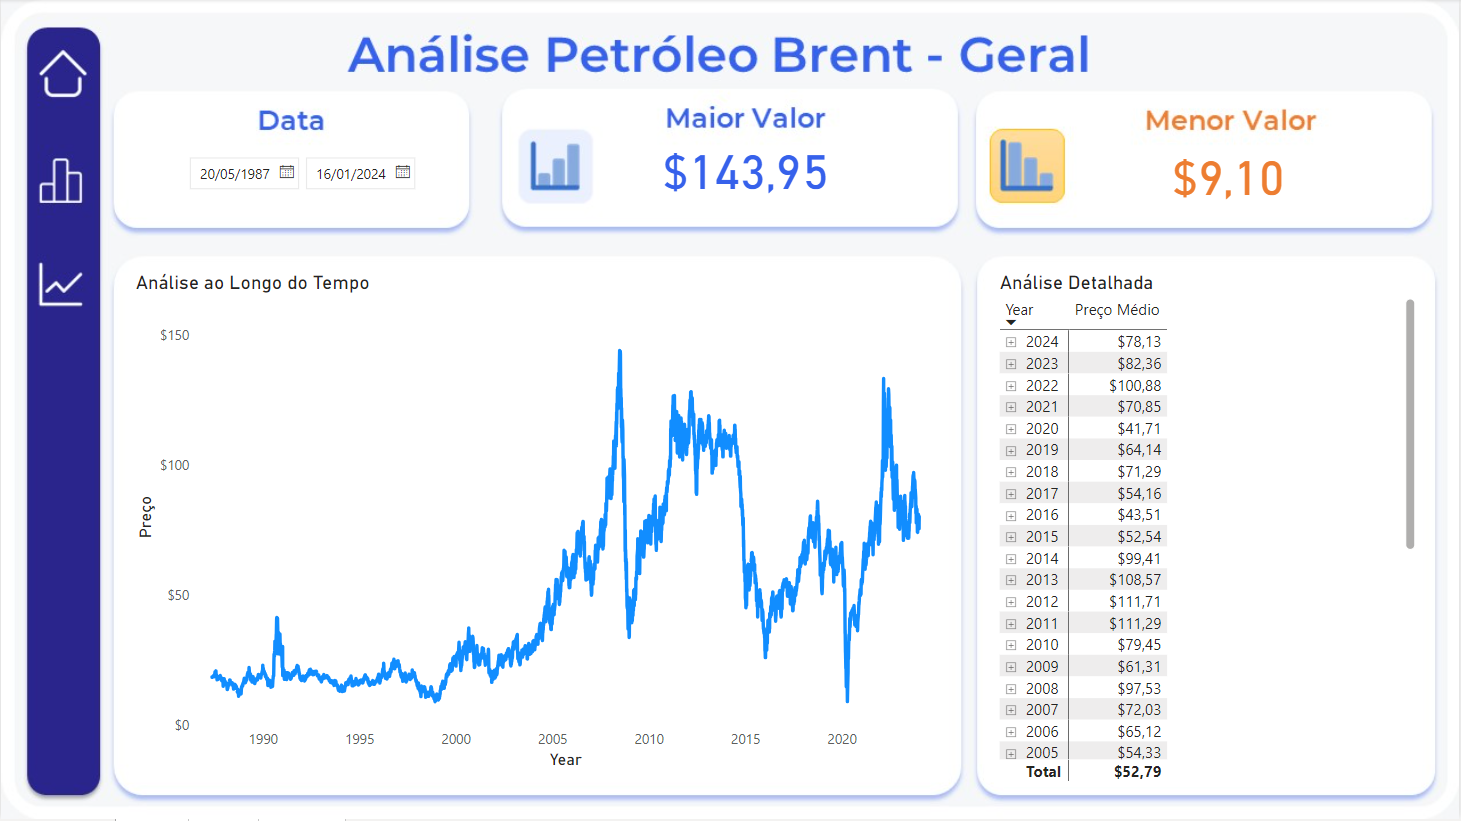

This screenshot's page, from the dashboard's own definition file:
{"tool":"powerbi","page":{"name":"Geral","canvas":[1280,720],"ordinal":1},"visuals":[{"type":"lineChart","title":"Análise ao Longo do Tempo","fields":{"Category":["petroleo_brent.Data.Variation.Date Hierarchy.Year","petroleo_brent.Data.Variation.Date Hierarchy.Month","petroleo_brent.Data.Variation.Date Hierarchy.Day"],"Y":["Sum(petroleo_brent.Preco)"]},"box":[113,239,711,442],"z":0},{"type":"pivotTable","title":"Análise Detalhada","fields":{"Rows":["petroleo_brent.Data.Variation.Date Hierarchy.Year","petroleo_brent.Data.Variation.Date Hierarchy.Month","petroleo_brent.Data.Variation.Date Hierarchy.Day"],"Values":["Sum(petroleo_brent.Preco)"]},"box":[872,239,375,453],"z":1000},{"type":"slicer","fields":{"Values":["petroleo_brent.Data"]},"box":[153,129,224,48],"z":2000},{"type":"card","fields":{"Values":["petroleo_brent.MaiorValor"]},"box":[521,98,267,98],"z":3000},{"type":"card","fields":{"Values":["petroleo_brent.MenorValor"]},"box":[925,110,306,86],"z":4000},{"type":"actionButton","box":[26,40,60,51],"z":5000},{"type":"actionButton","box":[26,226,60,52],"z":6000}]}

Visuals, with their boxes on the page's 1280x720 design canvas (x1, y1, x2, y2). These are canvas units, not pixel positions in the 1461x821 screenshot, which may show the page scaled, cropped or inside an application window:
"Análise ao Longo do Tempo" lineChart: bbox(113, 239, 824, 681)
"Análise Detalhada" pivotTable: bbox(872, 239, 1247, 692)
slicer - petroleo_brent.Data: bbox(153, 129, 377, 177)
card - petroleo_brent.MaiorValor: bbox(521, 98, 788, 196)
card - petroleo_brent.MenorValor: bbox(925, 110, 1231, 196)
actionButton: bbox(26, 40, 86, 91)
actionButton: bbox(26, 226, 86, 278)
